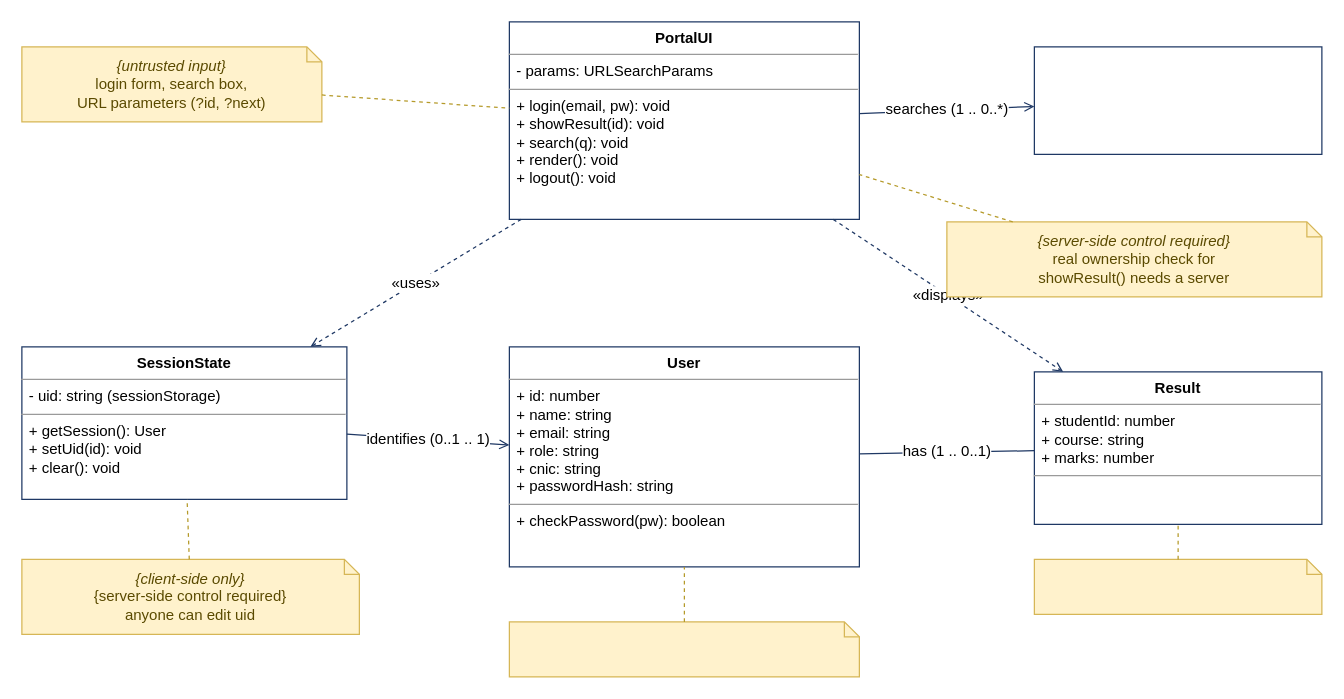
The diagram is 1344 pixels wide and 699 high, and some of its shapes have lost their labels. Each missing label, with the centre of its shape:
Course + name: string + matches(q): boolean: [1177,100]
{client-side only} password check runs in the browser: [683,649]
{synthetic data} all records are fake: [1177,586]
